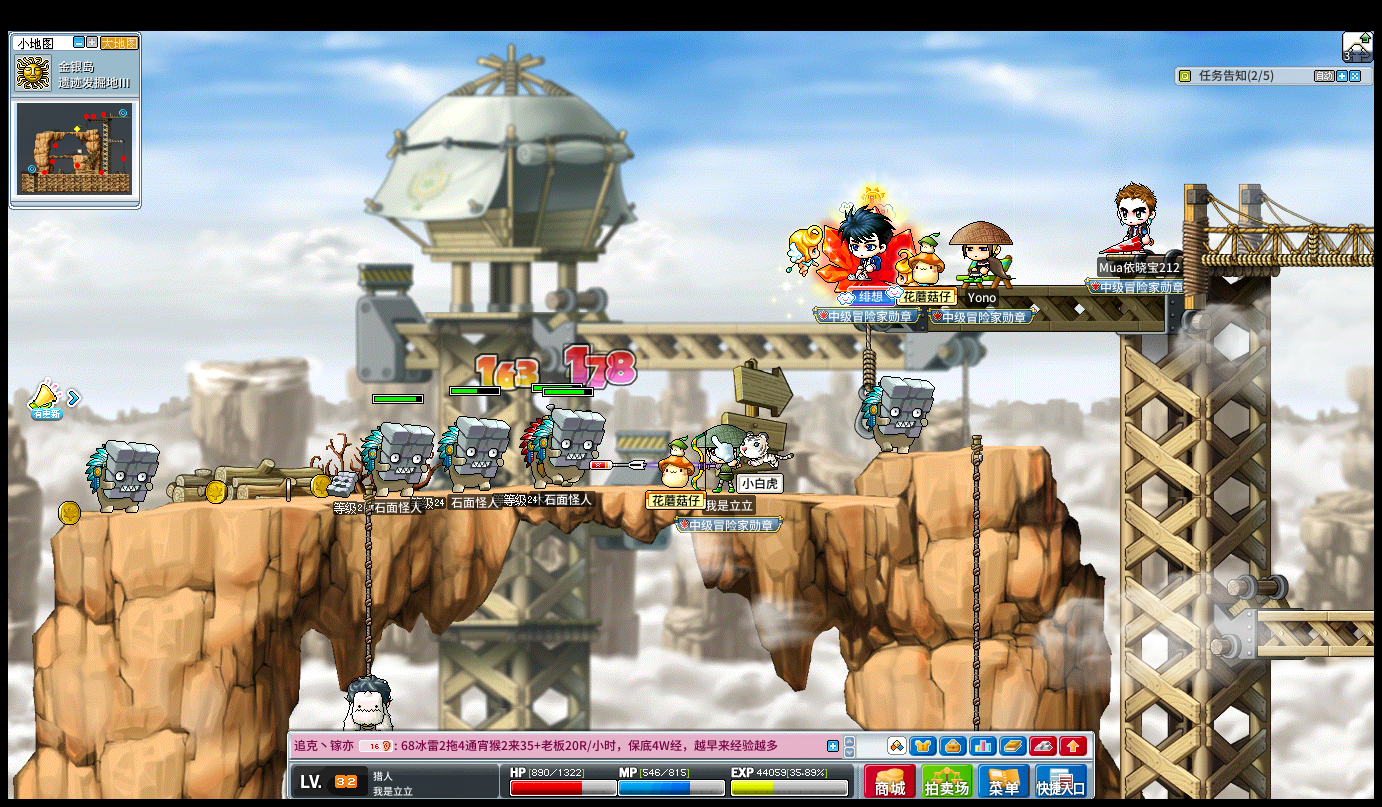floor: (69, 481, 870, 512), (69, 483, 932, 502), (67, 482, 977, 497), (873, 443, 1051, 459), (1197, 219, 1378, 234), (1253, 606, 1378, 621)
monster: (528, 406, 605, 486), (859, 374, 934, 455), (85, 440, 160, 514), (438, 415, 509, 490), (362, 421, 433, 494)
rope: (968, 431, 983, 726), (362, 487, 374, 673)
